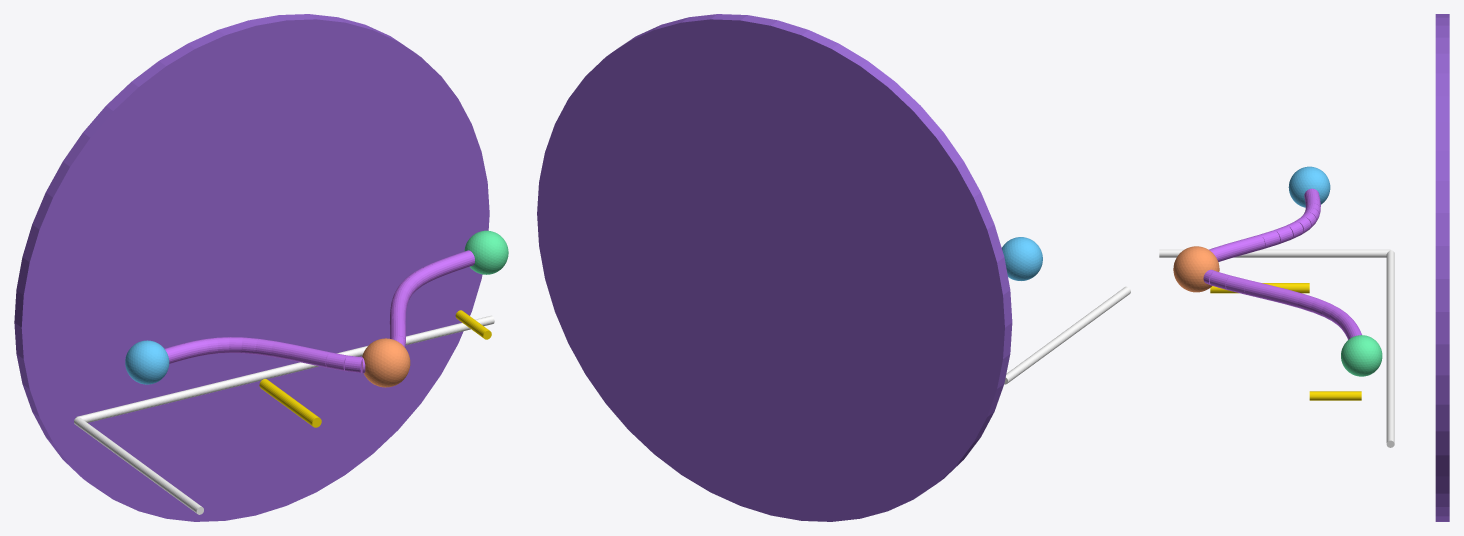
File: modelo (3).glb
3 renders of one model, left to right at view 1: azimuth 30°, elevation 25°; view 2: azimuth 150°, elevation 25°; view 3: azimuth 270°, elevation 25°, orthographic. The views are drawn at different scales.
Visible parts, largest first — view 1: base, eixo_progresso, TS, reagentes, produtos, eixo_energia, Ea; view 2: base, reagentes, eixo_energia; view 3: base, eixo_progresso, TS, eixo_energia, produtos, reagentes, DeltaH, Ea.
Part boxes in pixels (bbox=[...]): base: bbox=[14, 14, 489, 521]; eixo_progresso: bbox=[76, 315, 494, 422]; TS: bbox=[362, 338, 410, 387]; reagentes: bbox=[125, 340, 169, 384]; produtos: bbox=[464, 230, 508, 274]; eixo_energia: bbox=[74, 417, 203, 514]; Ea: bbox=[259, 379, 321, 427]; base: bbox=[537, 14, 1012, 521]; reagentes: bbox=[1002, 237, 1042, 280]; eixo_energia: bbox=[1004, 286, 1130, 384]; base: bbox=[1435, 14, 1449, 521]; eixo_progresso: bbox=[1386, 250, 1394, 447]; TS: bbox=[1173, 246, 1219, 292]; eixo_energia: bbox=[1159, 249, 1390, 257]; produtos: bbox=[1341, 335, 1382, 376]; reagentes: bbox=[1288, 166, 1330, 207]; DeltaH: bbox=[1309, 391, 1361, 400]; Ea: bbox=[1210, 283, 1309, 293].
Bounding box in the file's own units: 0.44 × 0.44 × 0.251.
